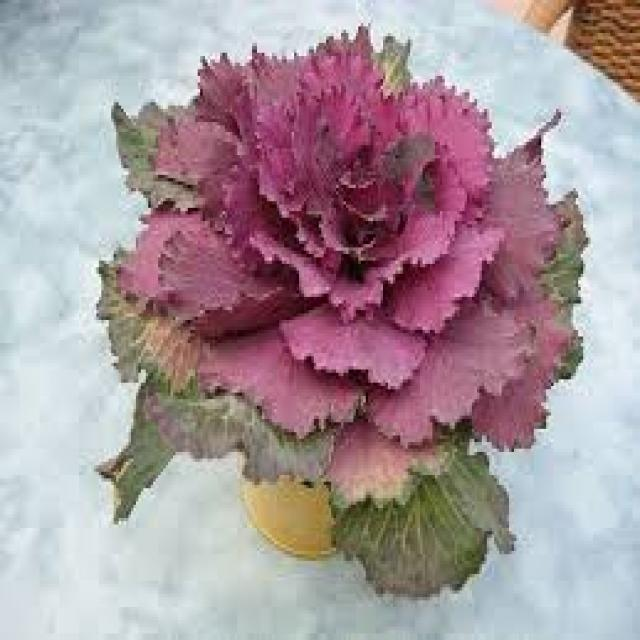organic waste: (96, 23, 581, 597)
